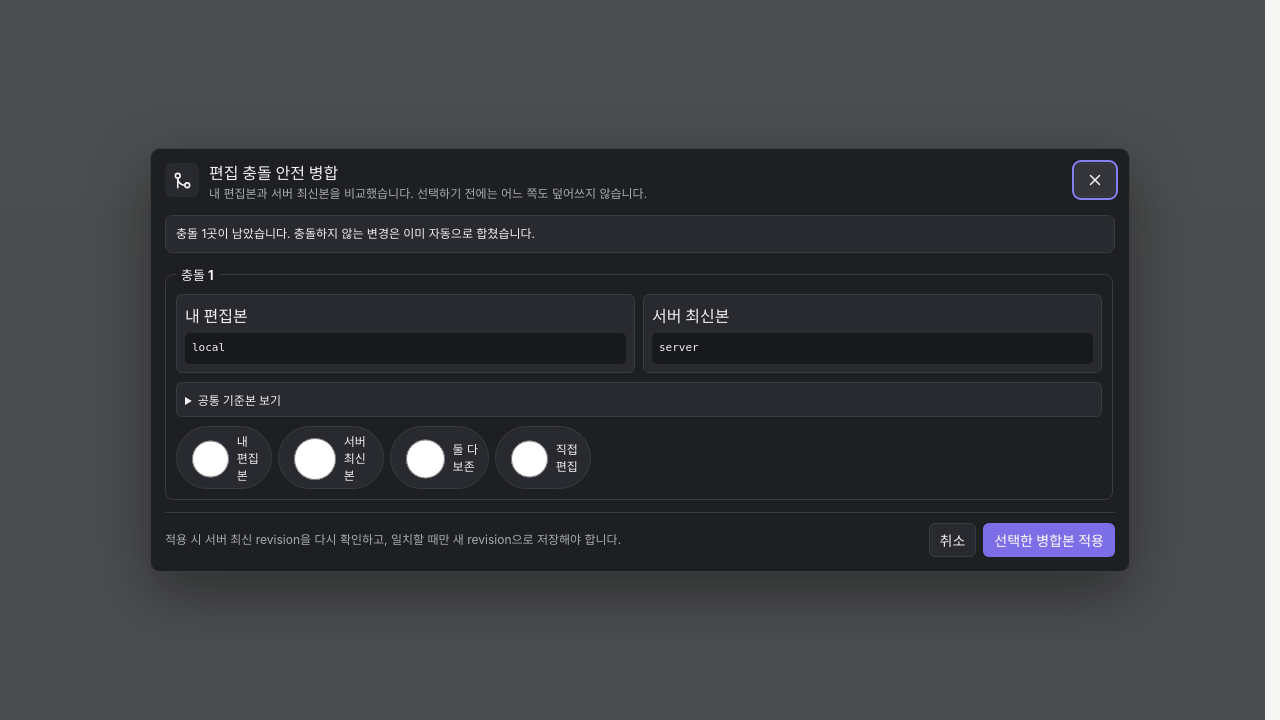
Test: VaultDraftConflictResolver › does not apply an unresolved conflict and exposes all four explicit choices
This screenshot has width=1280, height=720.
Expected: the dialog "편집 충돌 안전 병합" is shown, [150,148,1130,572]
Expected: the radio button labelled "내 편집본" is shown, [192,438,229,480]
Click the button "선택한 병합본 적용": (1049, 540) [983,522,1115,556]
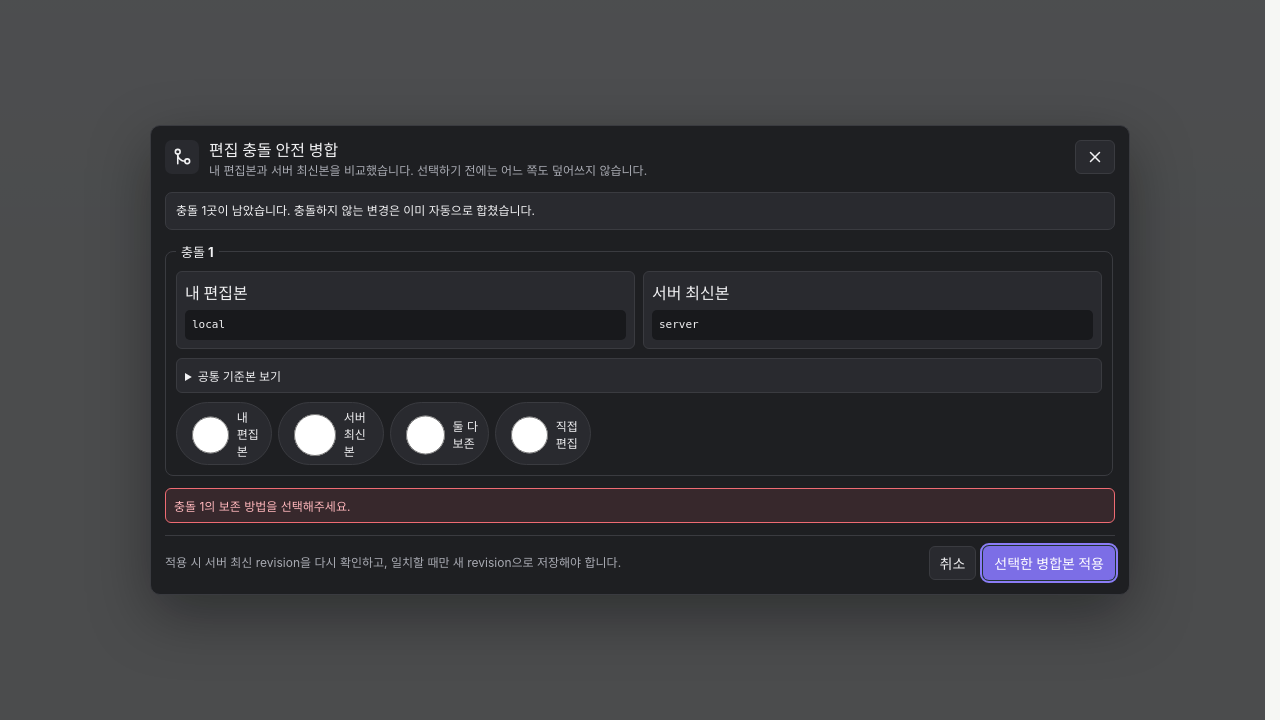
Expected: the message "충돌 1의 보존 방법을 선택해주세요." is shown, [165,488,1115,523]
